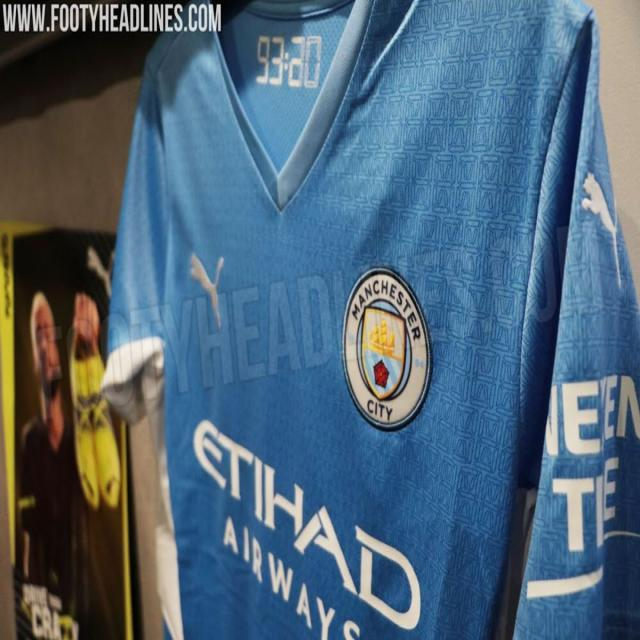Etihad Airways: (193, 415, 423, 639)
Puma: (575, 173, 622, 293), (188, 250, 230, 330)
